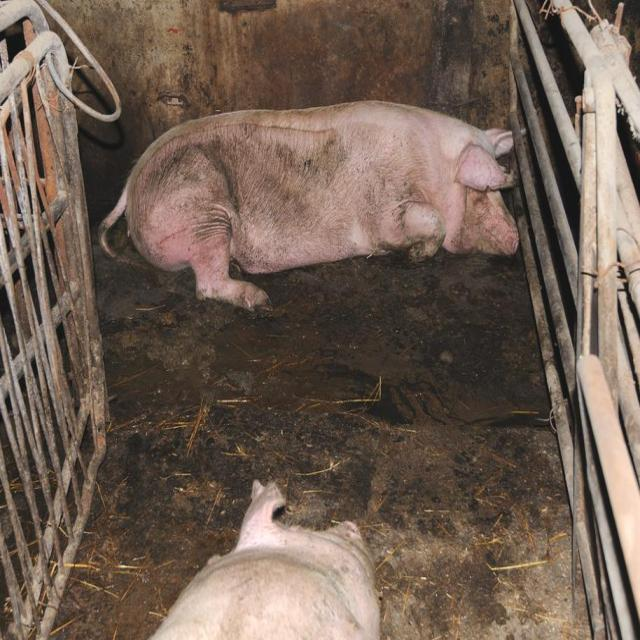pig: (100, 102, 519, 308), (152, 480, 380, 640)
